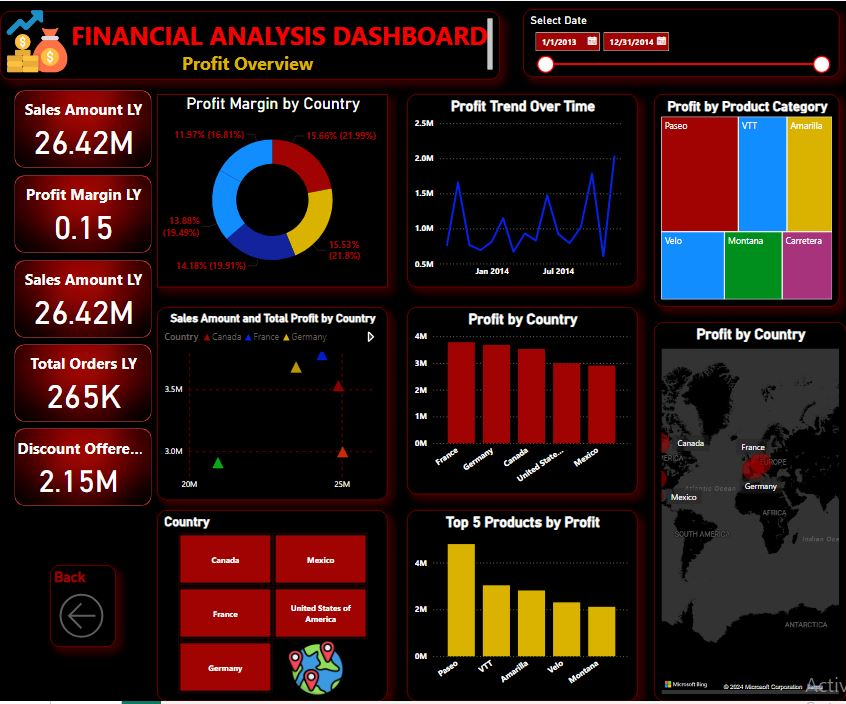

The page's visual inventory and layout, read from the dashboard file:
{"tool":"powerbi","page":{"name":"Profit","canvas":[1270,1050],"ordinal":1},"visuals":[{"type":"donutChart","fields":{"Category":["Financials.Country"],"Y":["Analysis.Profit Margin"]},"box":[236.2,139.9,346.1,290.4],"z":0},{"type":"scatterChart","fields":{"X":["Analysis.Sales Amount"],"Y":["Analysis.Total Profit"],"Series":["Financials.Country"]},"box":[236.2,458.9,346,290],"z":1000},{"type":"textbox","box":[0,15,750,103],"z":2000},{"type":"image","box":[0,3,111.4,114.4],"z":3000},{"type":"cardVisual","title":"Total Sales","fields":{"Data":["Analysis.Sales Amount LY"]},"box":[16.6,129.4,216,126],"z":4000},{"type":"cardVisual","title":"Total Sales","fields":{"Data":["Analysis.Profit Margin LY"]},"box":[16.6,255.8,216.7,126.4],"z":5000},{"type":"cardVisual","title":"Total Sales","fields":{"Data":["Analysis.Sales Amount LY"]},"box":[16.6,383.7,216.7,126.4],"z":6000},{"type":"cardVisual","title":"Total Sales","fields":{"Data":["Analysis.Total Orders LY"]},"box":[16.6,510.1,216.7,126.4],"z":7000},{"type":"cardVisual","title":"Total Sales","fields":{"Data":["Analysis.Discount Offered LY"]},"box":[16.6,636.5,216.7,126.4],"z":8000},{"type":"lineChart","title":"Profit Trend Over Time","fields":{"Category":["Date Table.Date.Variation.Date Hierarchy.Year","Date Table.Date.Variation.Date Hierarchy.Month"],"Y":["Analysis.Total Profit"]},"box":[610.9,139.9,346.1,290.4],"z":9000},{"type":"treemap","title":"Profit by Product Category","fields":{"Values":["Analysis.Total Profit"],"Group":["Financials.Product"]},"box":[981.1,139.9,278.4,319],"z":10000},{"type":"columnChart","title":"Profit by Country","fields":{"Category":["Financials.Country"],"Y":["Analysis.Total Profit"]},"box":[610.9,458.9,346.1,281.4],"z":11000},{"type":"map","title":"Profit by Country","fields":{"Category":["Financials.Country"],"Size":["Analysis.Total Profit"]},"box":[981.1,481.5,288.9,568.8],"z":12000},{"type":"columnChart","title":"Top 5 Products by Profit","fields":{"Category":["Financials.Product"],"Y":["Analysis.Total Profit"]},"box":[610.9,762.9,346,287.4],"z":13000},{"type":"slicer","title":"Select Date","fields":{"Values":["Date Table.Date"]},"box":[784,12,475.5,102.3],"z":14000},{"type":"slicer","title":"Country","fields":{"Values":["Financials.Country"]},"box":[236.2,762.9,346.1,287.4],"z":15000},{"type":"actionButton","title":"Back","box":[75.2,845.7,99.3,123.4],"z":16000},{"type":"image","box":[425.8,951,94.8,99.3],"z":17000}]}

Visuals, with their boxes in screenshot pixels (x1, y1, x2, y2), scaled from the page's 1270x1050 canvas onto the 846x704 screenshot:
donutChart - Financials.Country x Analysis.Profit Margin: [157,94,388,289]
scatterChart - Analysis.Sales Amount x Analysis.Total Profit: [157,308,388,502]
textbox: [0,10,500,79]
image: [0,2,74,79]
"Total Sales" cardVisual: [11,87,155,171]
"Total Sales" cardVisual: [11,172,155,256]
"Total Sales" cardVisual: [11,257,155,342]
"Total Sales" cardVisual: [11,342,155,427]
"Total Sales" cardVisual: [11,427,155,512]
"Profit Trend Over Time" lineChart: [407,94,637,289]
"Profit by Product Category" treemap: [654,94,839,308]
"Profit by Country" columnChart: [407,308,637,496]
"Profit by Country" map: [654,323,845,703]
"Top 5 Products by Profit" columnChart: [407,512,637,703]
"Select Date" slicer: [522,8,839,77]
"Country" slicer: [157,512,388,703]
"Back" actionButton: [50,567,116,650]
image: [284,638,347,703]
